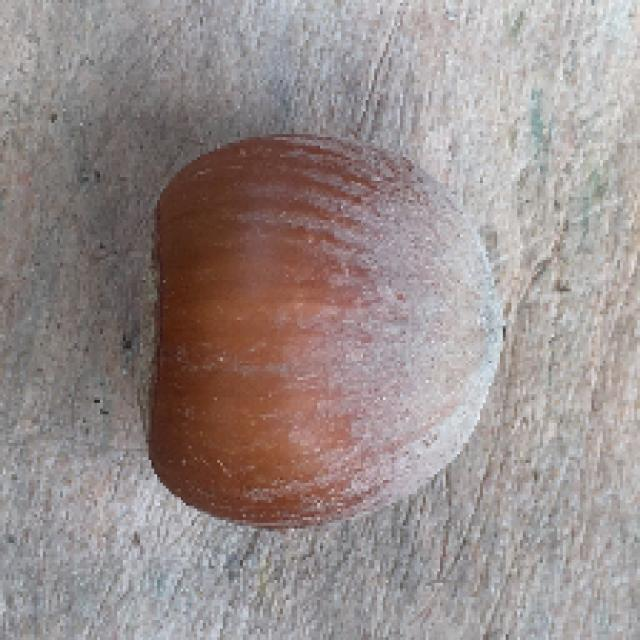qualityHazelnut: (110, 119, 512, 540)
